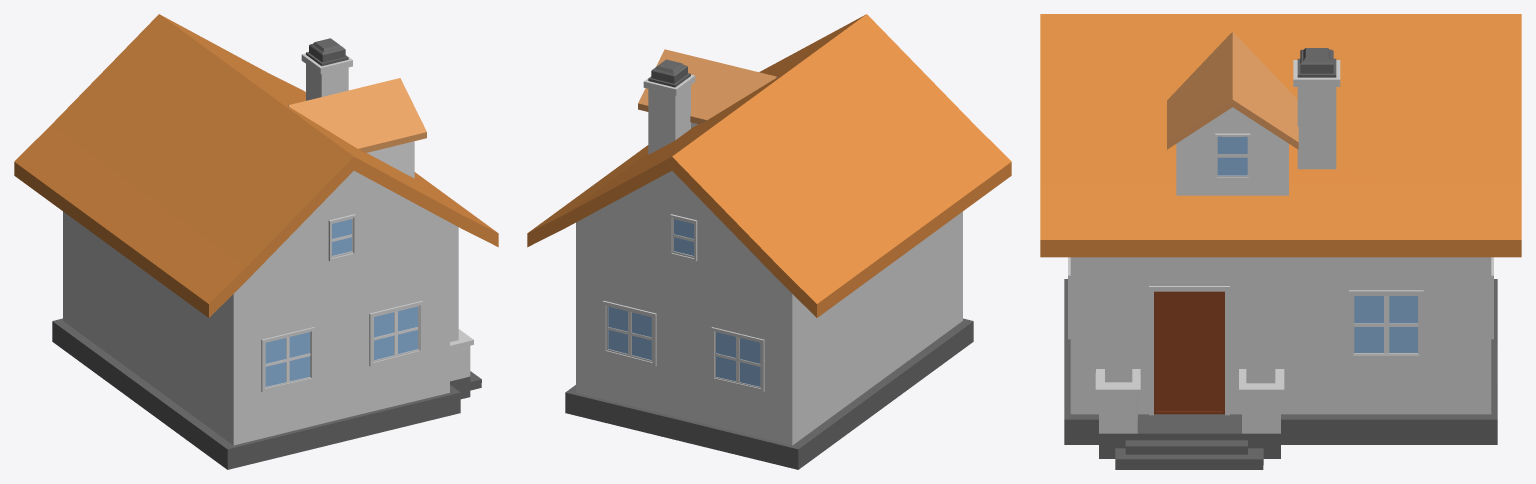
The model's file is Wrong.fbx.
3 renders of one model, left to right at view 1: azimuth 30°, elevation 25°; view 2: azimuth 150°, elevation 25°; view 3: azimuth 270°, elevation 25°, orthographic. The views are drawn at different scales.
Parts seen in each view (by area): view 1: Cube, Cube.008; view 2: Cube, Cube.008; view 3: Cube, Cube.008, Cube.001.
Boxes of the visible parts, <box> form: Cube: <box>14,14,498,469</box>; Cube.008: <box>288,78,426,178</box>; Cube: <box>527,14,1011,469</box>; Cube.008: <box>638,49,776,127</box>; Cube: <box>1040,14,1521,469</box>; Cube.008: <box>1167,32,1298,195</box>; Cube.001: <box>1354,296,1417,353</box>.
Bounding box in the file's own units: 531 × 506 × 591.
